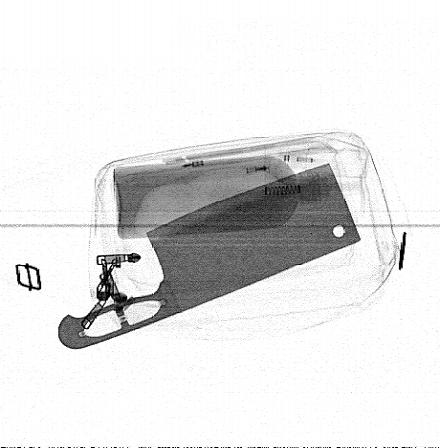Knife: (57, 162, 362, 351)
